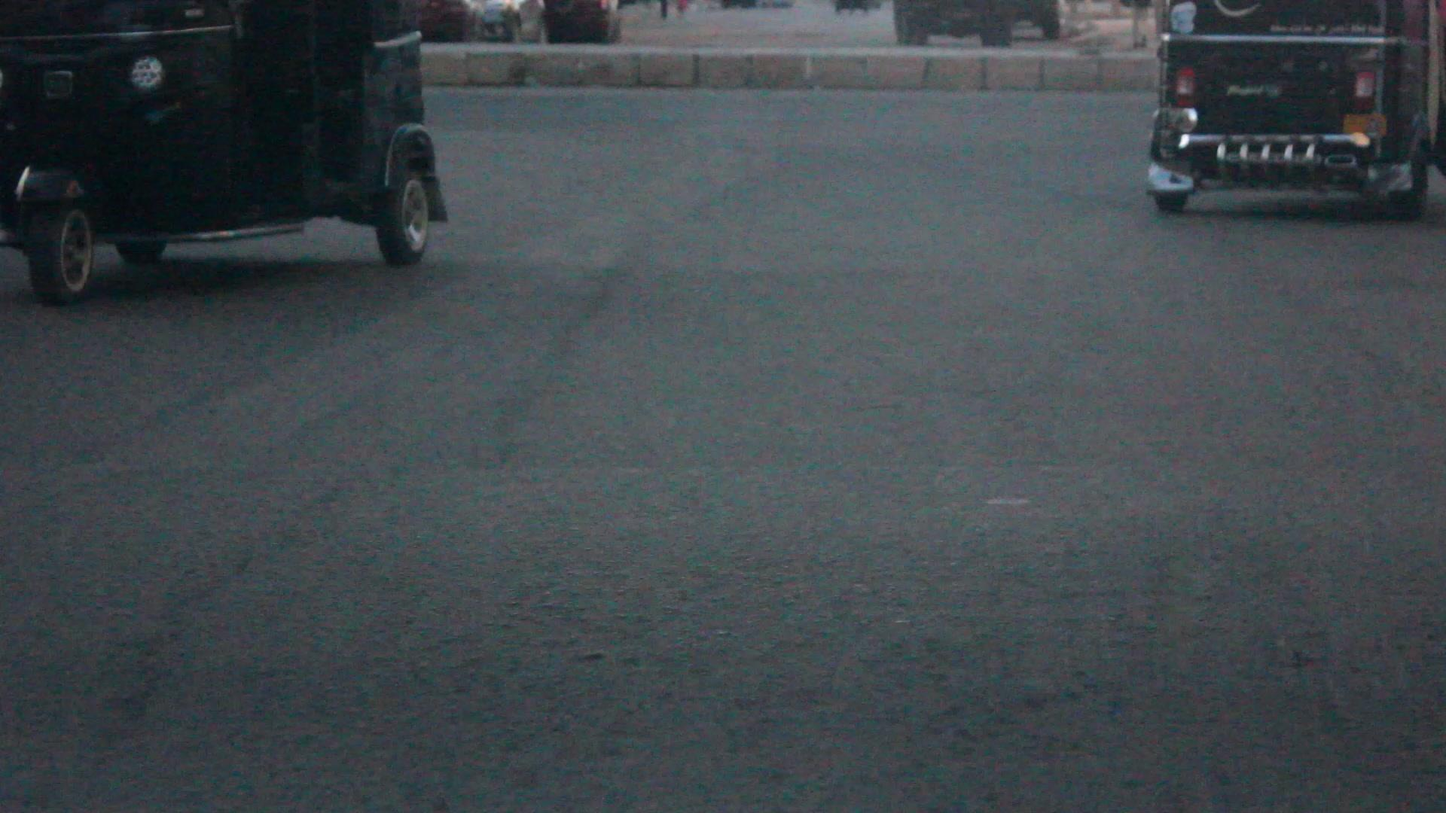Bump: (0, 454, 1445, 725)
